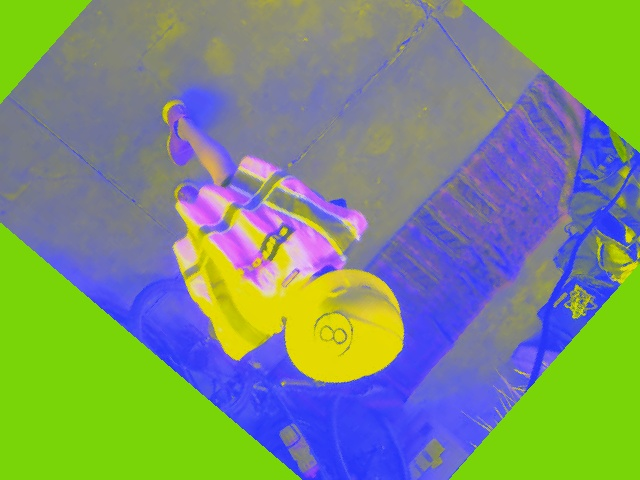eight: (302, 304, 364, 364)
